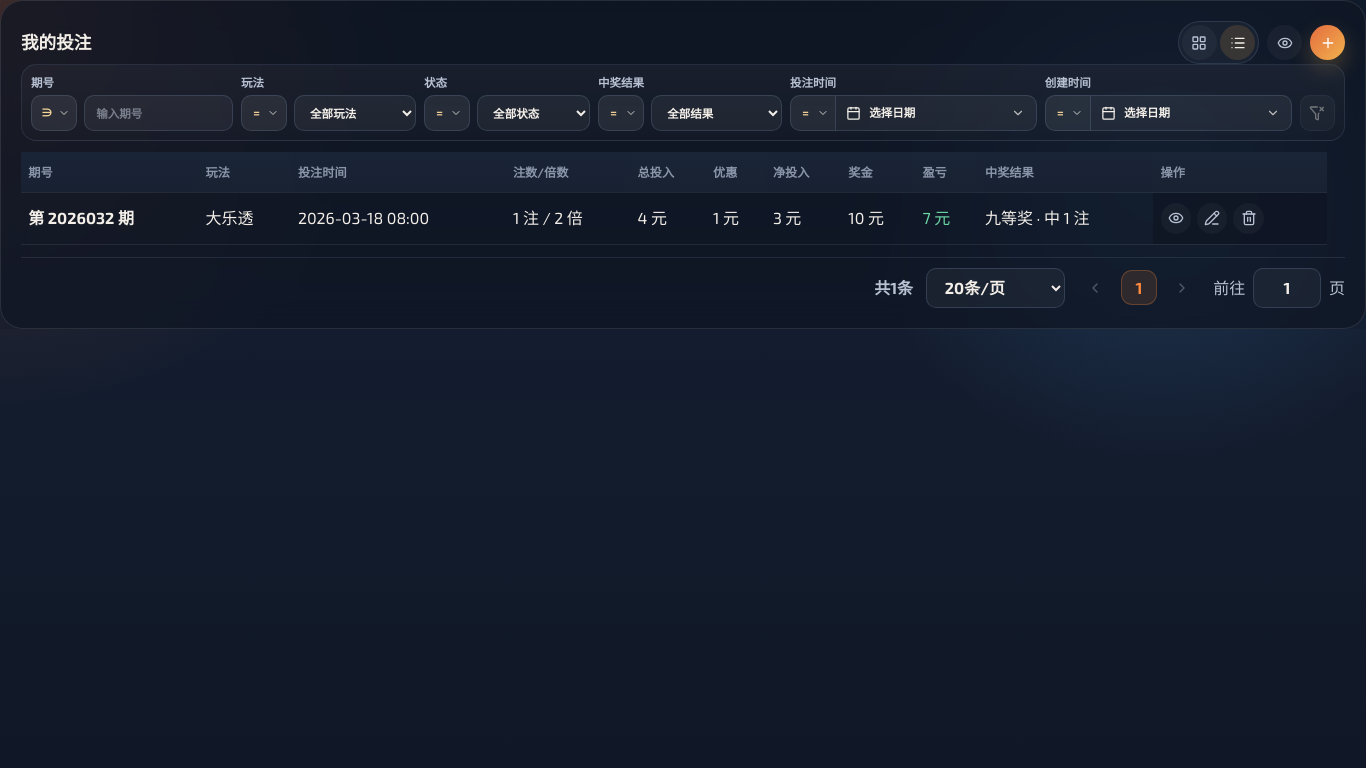
Test case: MyBetsPanel › defaults to table view and opens the detail modal from a row
The image size is (1366, 768).
expect the heading "我的投注" is shown: met, box [21,29,91,56]
expect the button "第 2026032 期" is shown: met, box [28,206,134,230]
Click the text "九等奖 · 中 1 注" at {"x": 1065, "y": 218}, box [978,192,1153,245]
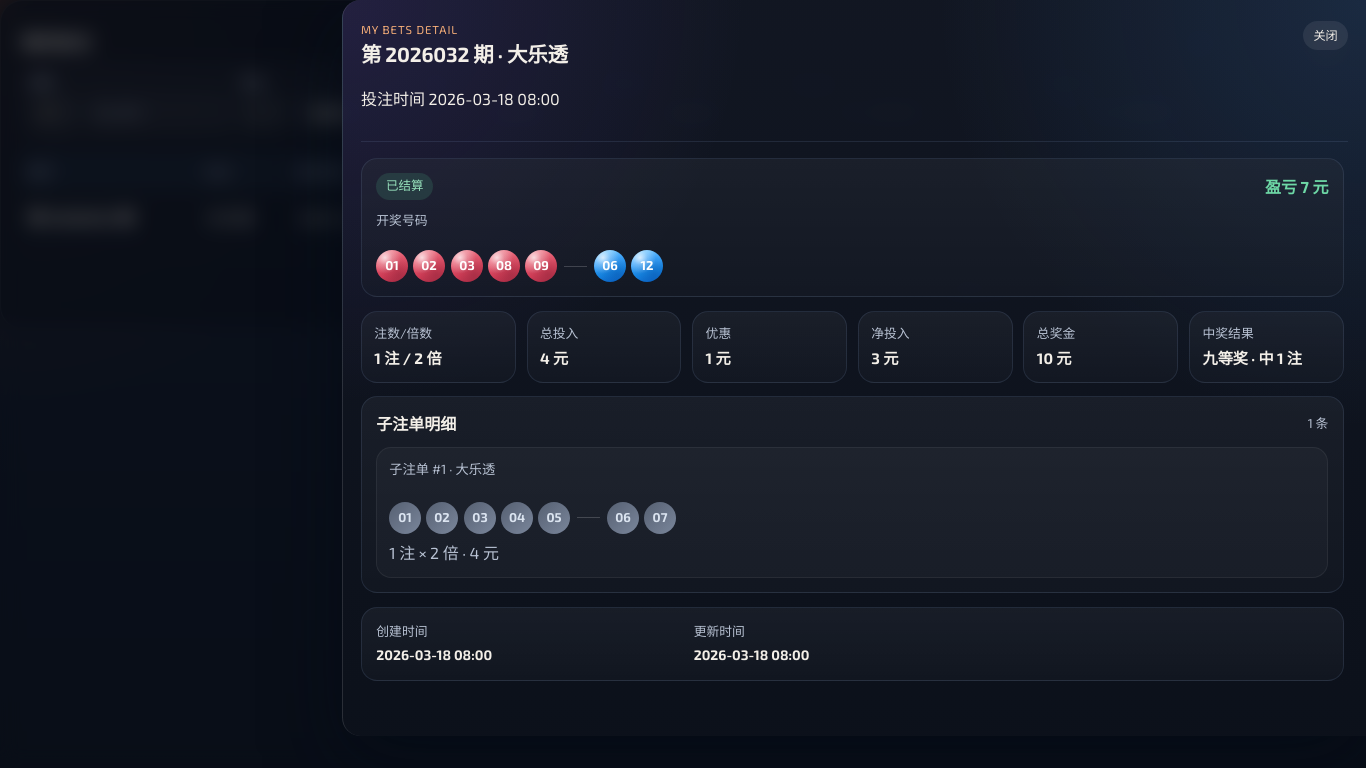
expect the text "开奖号码" is shown: met, box [376,212,428,228]
expect the text "创建时间" is shown: met, box [376,623,428,639]
expect the text "更新时间" is shown: met, box [694,623,745,639]
Click the button "关闭" at {"x": 1326, "y": 36}, box [1304,21,1348,50]
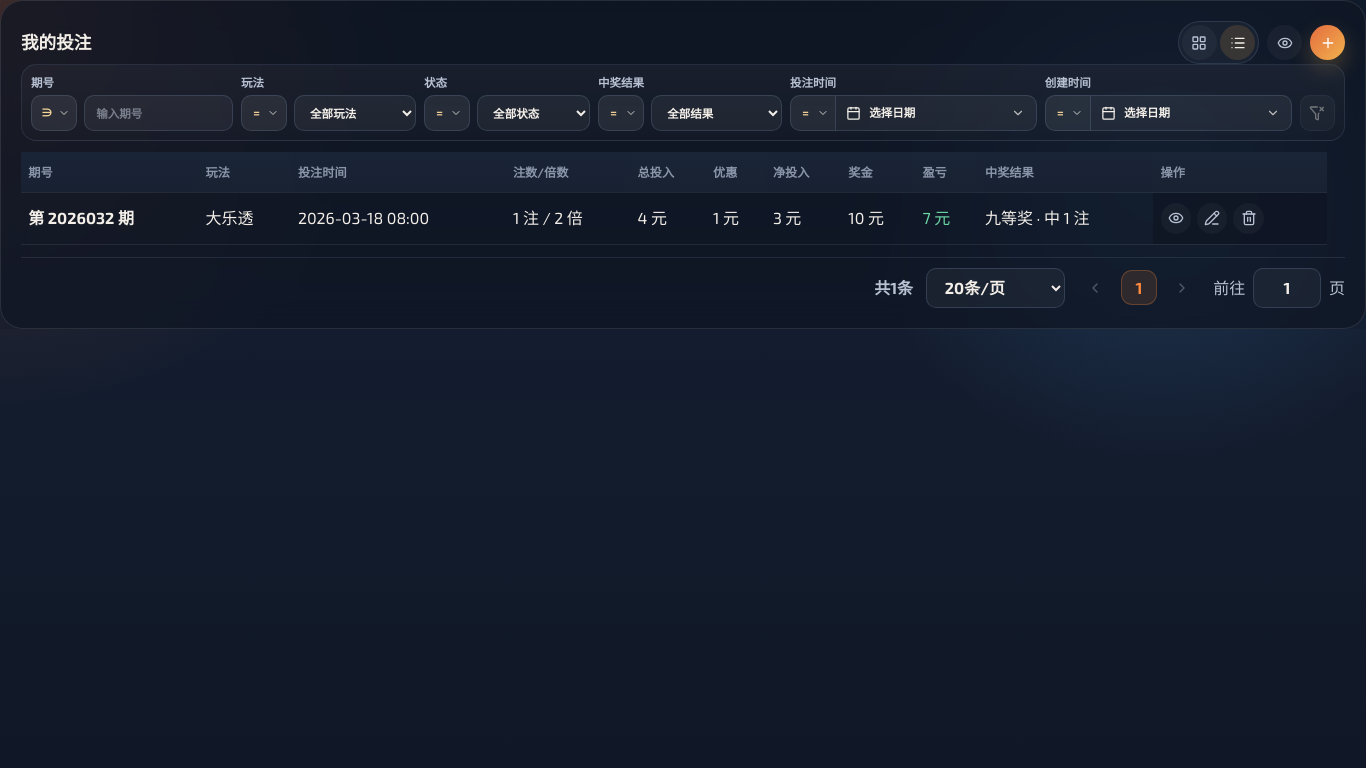
expect the dialog is gone: met
